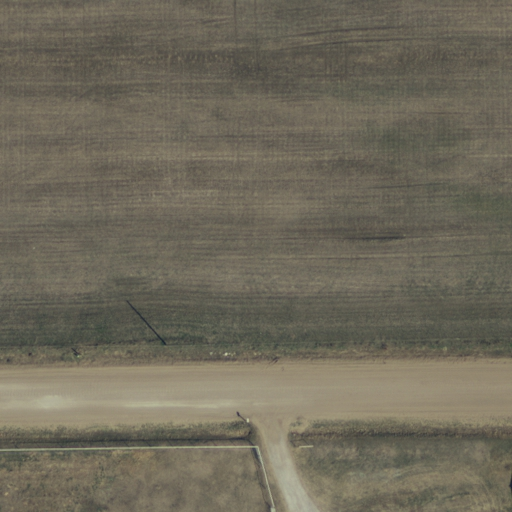DT: (156, 335, 175, 357)
